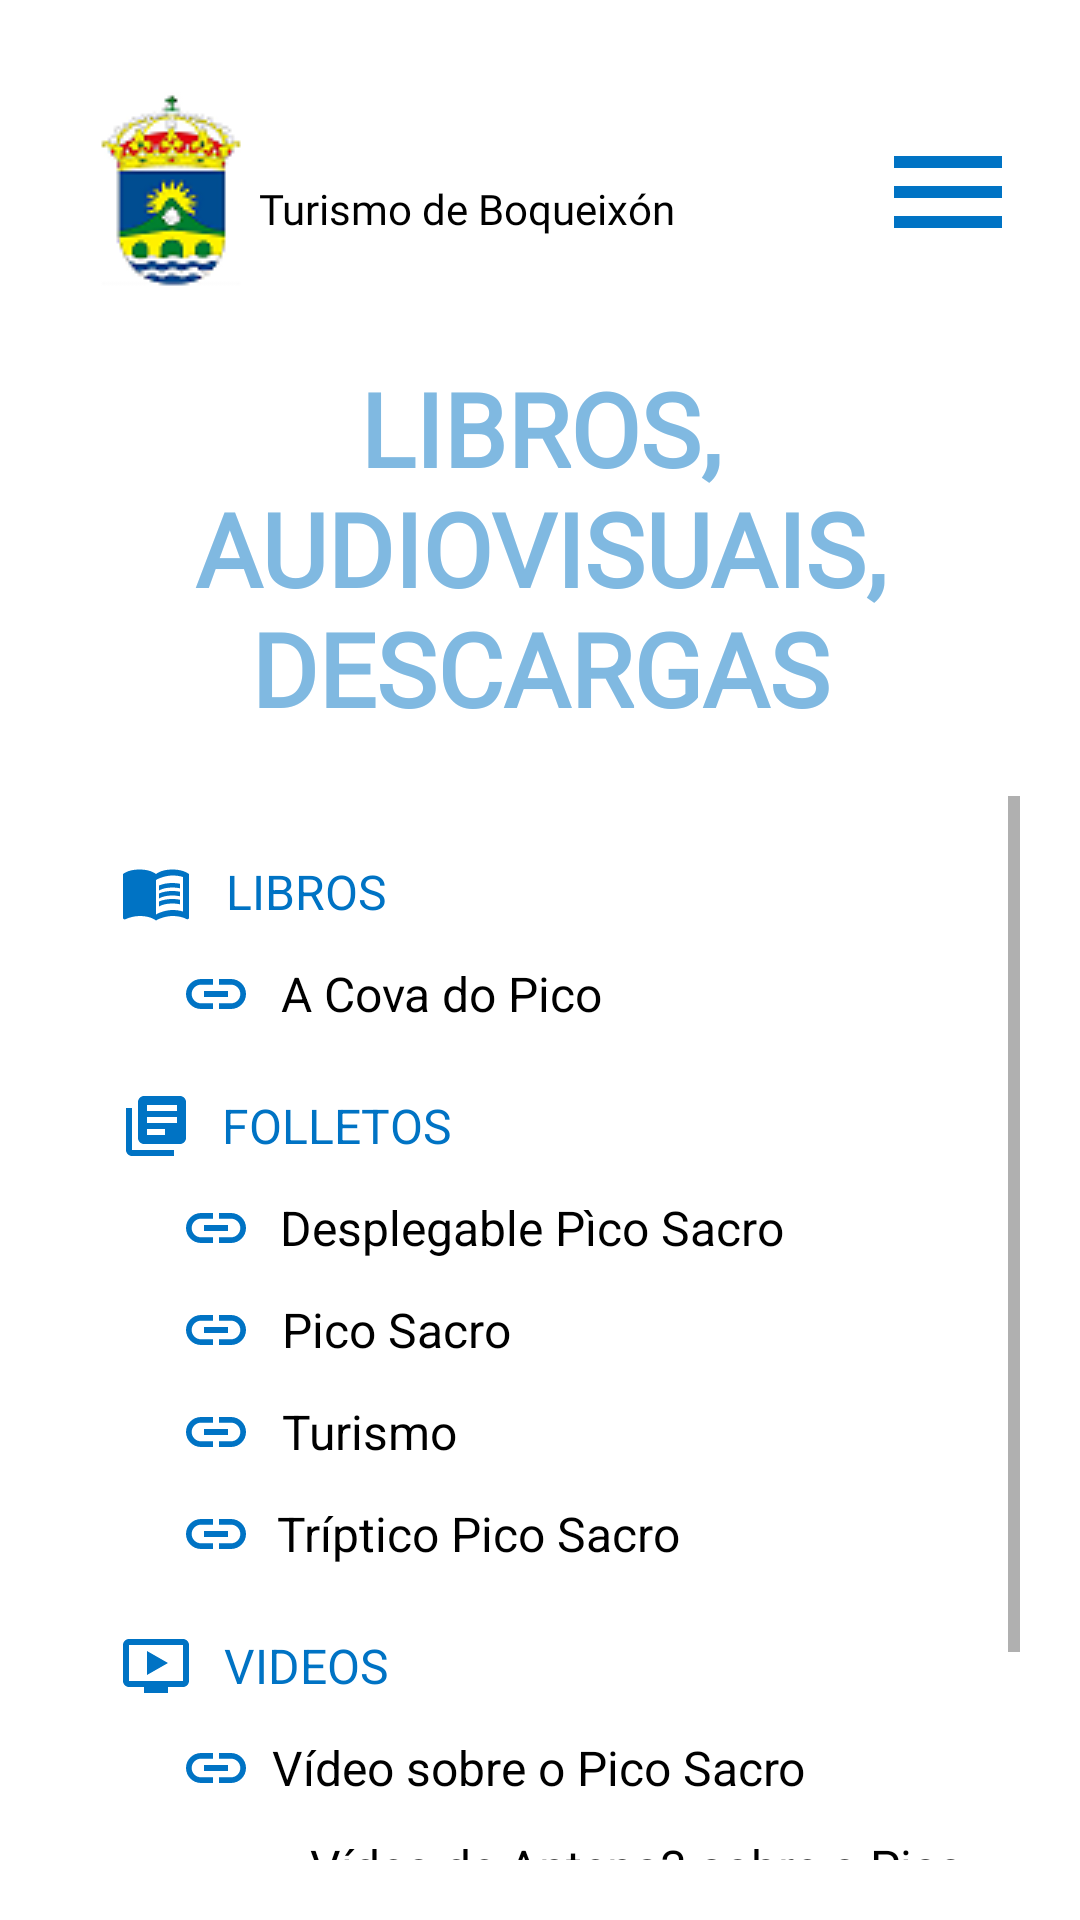

Locate icon controls on the screen. Image size 1080px×1920px, boxes as [left=x1, top=y1, right=x2, bottom=y2].
hamburguesa: [left=894, top=156, right=1002, bottom=228]
